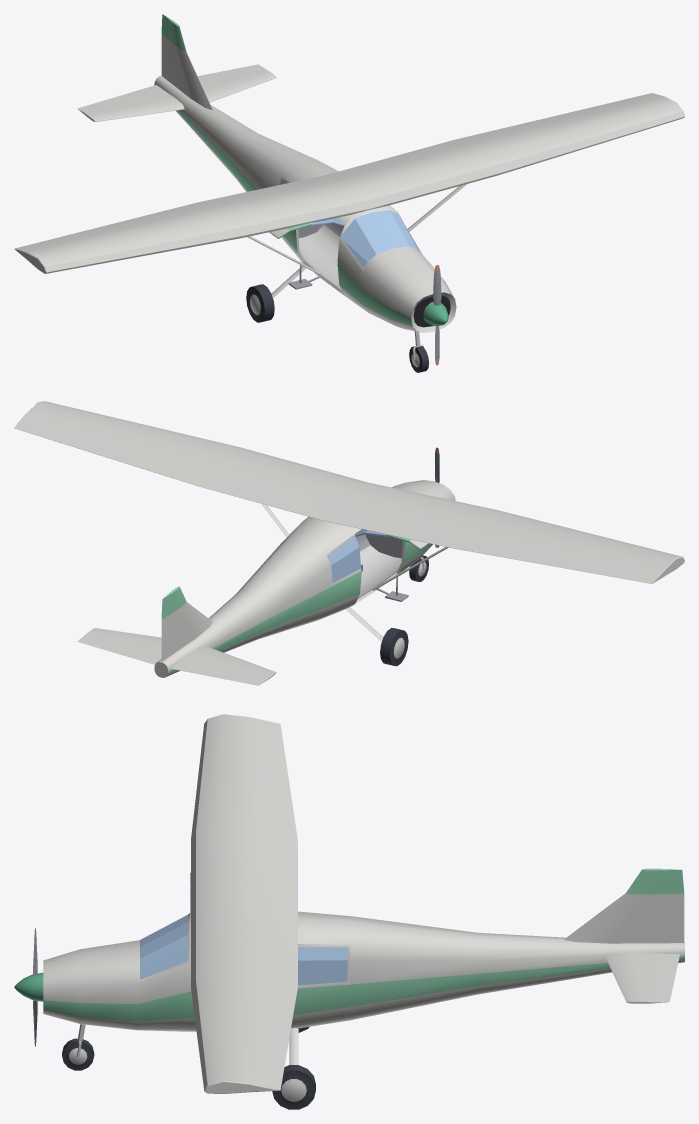
The model's file is avioneta.glb.
3 views of the same model, one above another, from view 1: azimuth 30°, elevation 25°; view 2: azimuth 150°, elevation 25°; view 3: azimuth 270°, elevation 25° (orthographic). The views are drawn at different scales.
Visible parts, largest first — view 1: Cuerpo, Interior, Helice; view 2: Cuerpo, Interior; view 3: Cuerpo, Helice.
Part boxes in pixels (x1,y1,x2,y2): Cuerpo: (14, 14, 684, 372); Interior: (298, 223, 343, 289); Helice: (423, 265, 448, 365); Cuerpo: (14, 401, 684, 685); Interior: (355, 534, 402, 599); Cuerpo: (43, 714, 684, 1109); Helice: (14, 928, 43, 1046).
Bounding box in the file's own units: 13 × 3.29 × 10.04.
